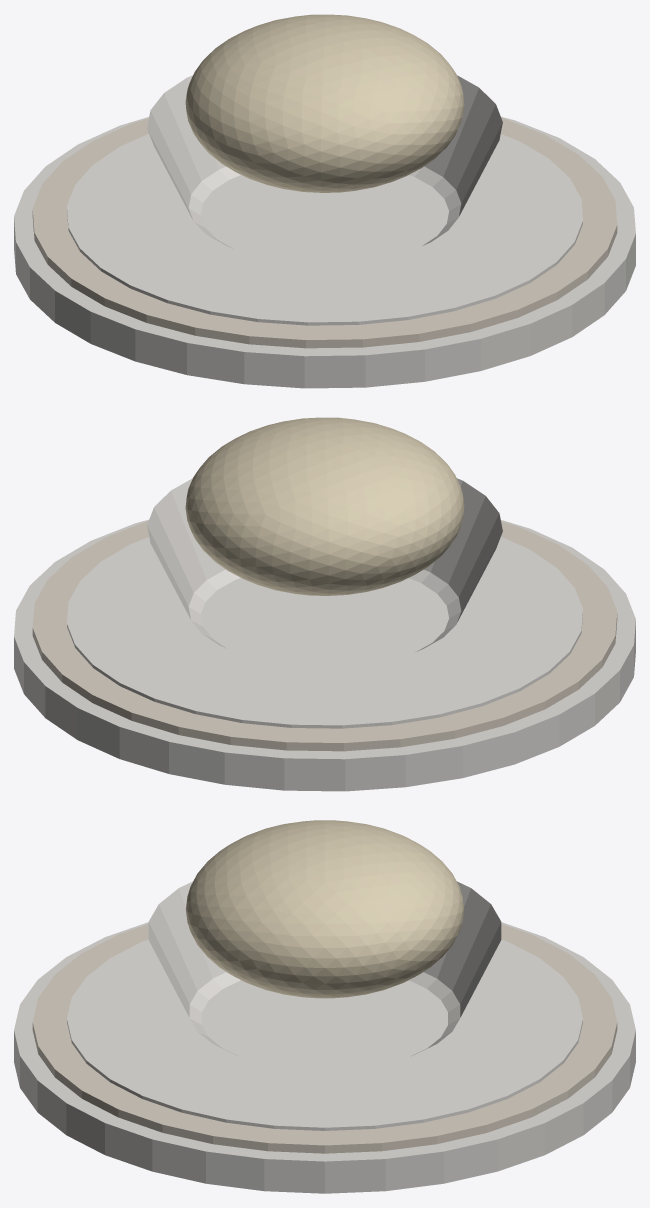
The model's file is khoai_nghien.glb.
3 views of the same model, one above another, from view 1: azimuth 30°, elevation 25°; view 2: azimuth 150°, elevation 25°; view 3: azimuth 270°, elevation 25° (orthographic).
Visible parts, largest first — view 1: obj_0002, obj_0004, obj_0000, obj_0001, obj_0003; view 2: obj_0002, obj_0004, obj_0000, obj_0001, obj_0003; view 3: obj_0002, obj_0004, obj_0000, obj_0001, obj_0003.
Part boxes in pixels (<box>): obj_0002: <box>67,134,582,325</box>; obj_0004: <box>185,14,464,192</box>; obj_0000: <box>14,116,635,388</box>; obj_0001: <box>32,118,617,348</box>; obj_0003: <box>147,75,502,249</box>; obj_0002: <box>67,537,582,728</box>; obj_0004: <box>185,417,464,595</box>; obj_0000: <box>14,519,635,791</box>; obj_0001: <box>32,521,617,751</box>; obj_0003: <box>147,478,502,652</box>; obj_0002: <box>67,939,582,1130</box>; obj_0004: <box>185,820,464,998</box>; obj_0000: <box>14,922,635,1193</box>; obj_0001: <box>32,924,617,1153</box>; obj_0003: <box>148,881,501,1055</box>.
Size of the model in its own units: 2.1 by 0.82 by 2.1.
